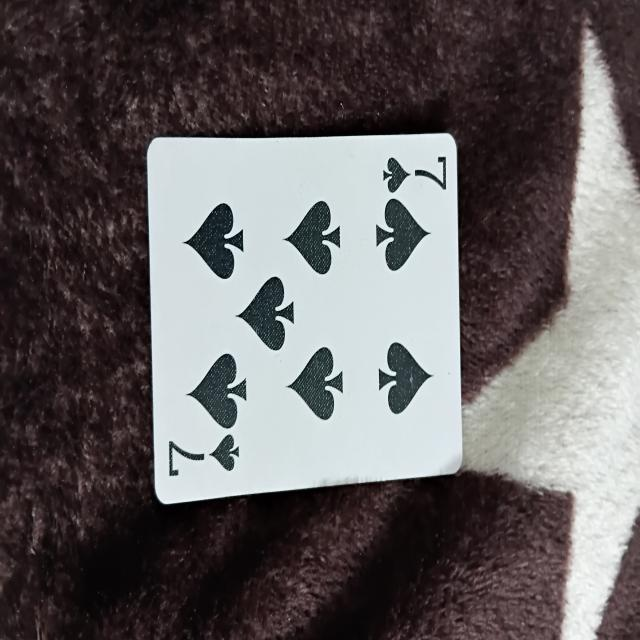7S: (142, 126, 462, 487)
